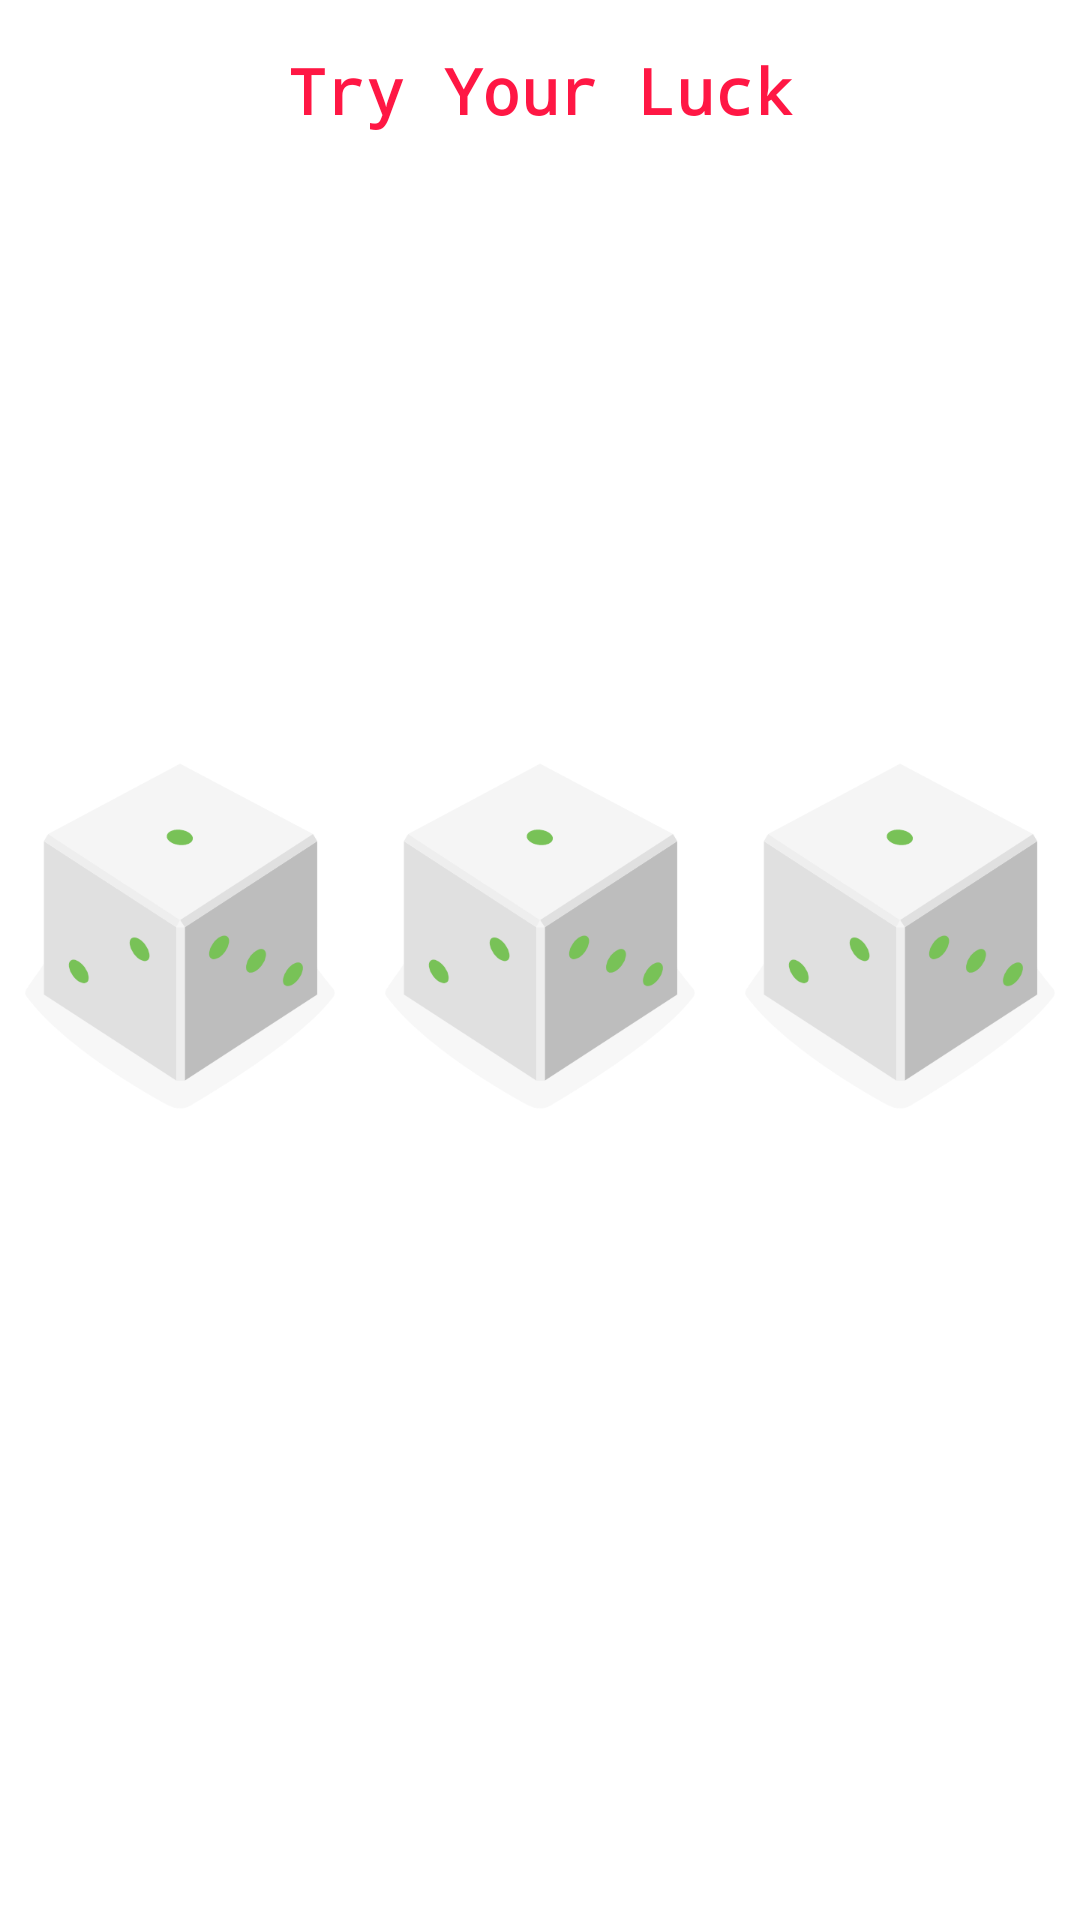

Where icons sit on this 1080 x 1920 app screen, as BBox(x1, y1, x2, y2):
dice: BBox(44, 829, 317, 1080), BBox(404, 829, 677, 1080), BBox(764, 829, 1037, 1080)
